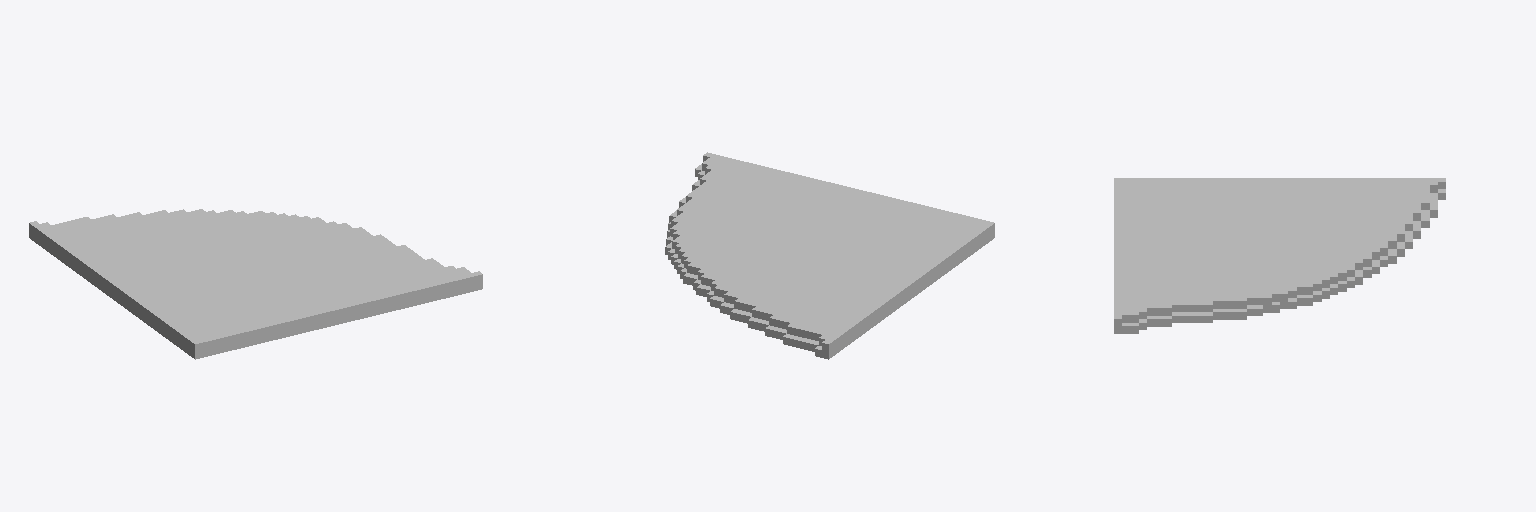
Rendered from platform corner.obj.
3 views of the same model, side by side, from view 1: azimuth 30°, elevation 25°; view 2: azimuth 150°, elevation 25°; view 3: azimuth 270°, elevation 25° (orthographic).
Visible parts, largest first — view 1: object 1; view 2: object 1; view 3: object 1.
Part boxes in pixels (x1,y1,x2,y2): object 1: (29, 209, 482, 359); object 1: (665, 152, 994, 359); object 1: (1114, 178, 1445, 333).
Size of the model in its own units: 4 by 0.2 by 4.